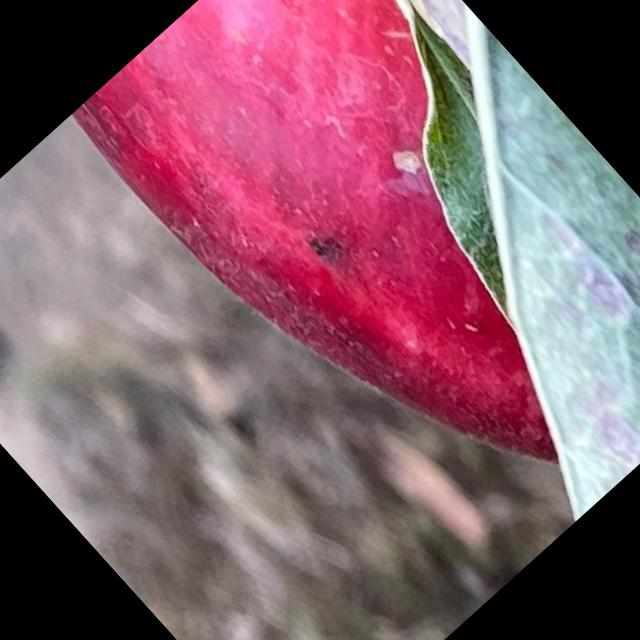Apples: (67, 0, 639, 547)
